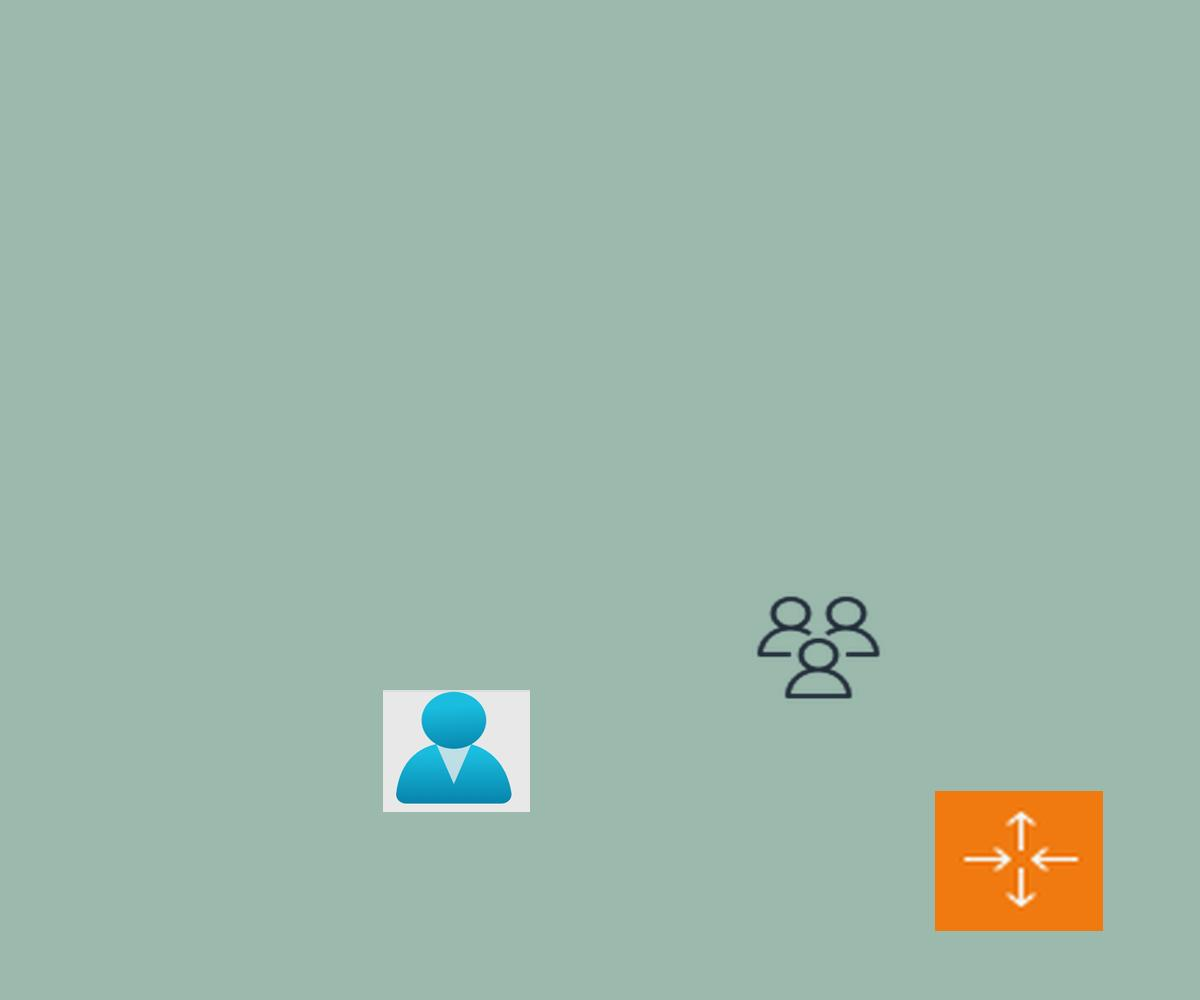AWS-Res_Users: (752, 592, 885, 703)
AWS-Scaling-group: (935, 791, 1103, 931)
Azure_users: (383, 690, 530, 812)
